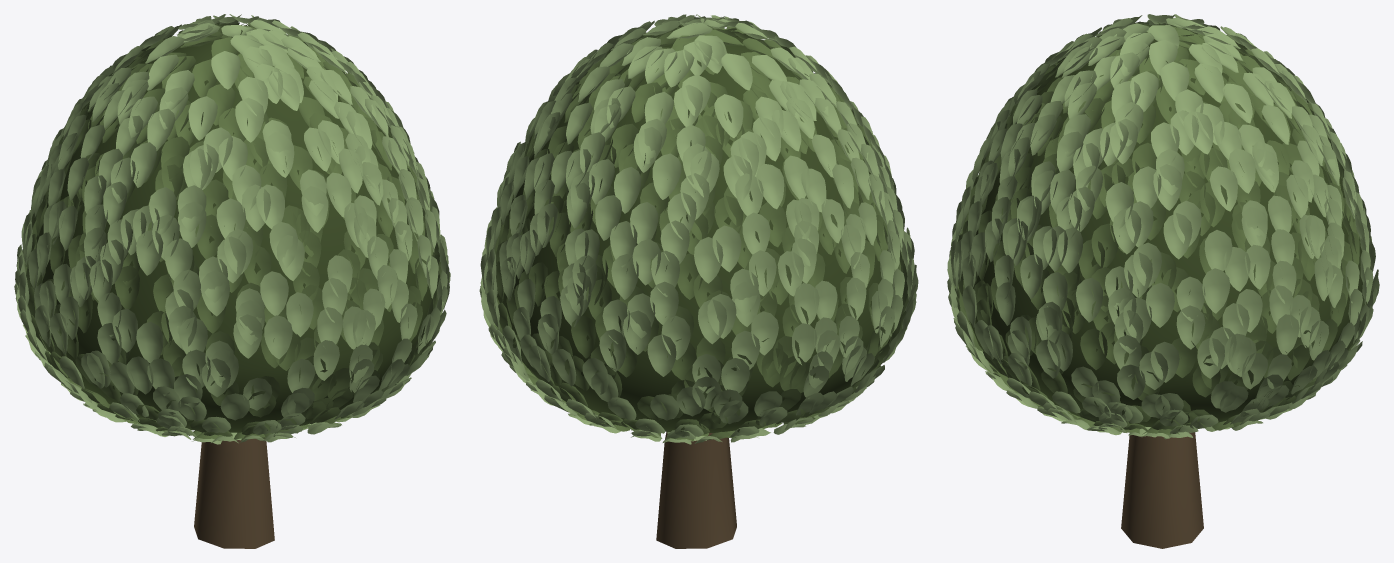
File: Prop_Arbre_01.fbx
3 renders of one model, left to right at view 1: azimuth 30°, elevation 25°; view 2: azimuth 150°, elevation 25°; view 3: azimuth 270°, elevation 25°, orthographic.
Visible parts, largest first — view 1: MASH4_ReproMesh, MASH3_ReproMesh, base_feuillage, arbre_01; view 2: MASH4_ReproMesh, MASH3_ReproMesh, base_feuillage, arbre_01; view 3: MASH4_ReproMesh, MASH3_ReproMesh, base_feuillage, arbre_01.
Part boxes in pixels (bbox=[...]): MASH4_ReproMesh: bbox=[14, 14, 450, 444]; MASH3_ReproMesh: bbox=[22, 22, 441, 440]; base_feuillage: bbox=[36, 35, 432, 432]; arbre_01: bbox=[194, 438, 274, 548]; MASH4_ReproMesh: bbox=[479, 14, 918, 444]; MASH3_ReproMesh: bbox=[487, 24, 908, 440]; base_feuillage: bbox=[497, 36, 890, 432]; arbre_01: bbox=[656, 431, 736, 548]; MASH4_ReproMesh: bbox=[947, 14, 1379, 439]; MASH3_ReproMesh: bbox=[954, 22, 1371, 434]; base_feuillage: bbox=[969, 39, 1362, 427]; arbre_01: bbox=[1121, 432, 1203, 548].
Bounding box in the file's own units: 157 × 200 × 156.
